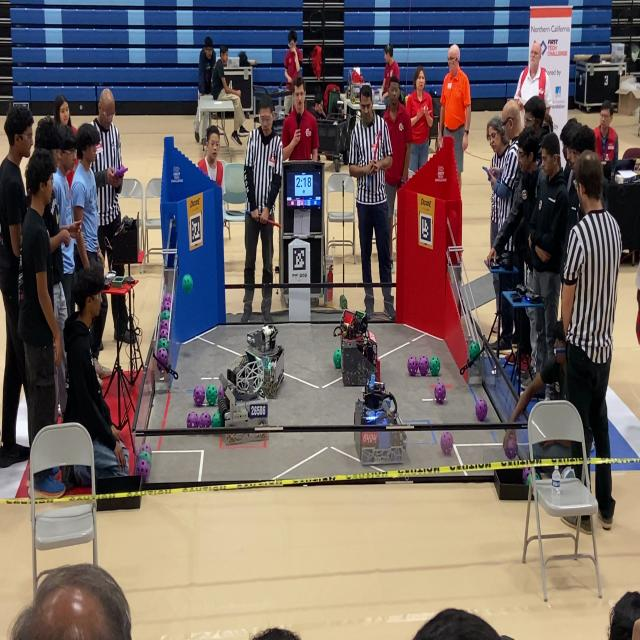artifact_green: (135, 460, 150, 482), (504, 437, 518, 459), (206, 385, 218, 406), (156, 348, 168, 367), (469, 341, 480, 361), (182, 274, 193, 293), (430, 356, 440, 376), (139, 451, 151, 466), (212, 412, 223, 428), (333, 348, 341, 369), (138, 443, 151, 453), (523, 467, 530, 485), (158, 338, 168, 349), (340, 295, 347, 309), (161, 311, 170, 321), (526, 471, 530, 486), (526, 472, 530, 485)
artifact_purple: (135, 459, 150, 482), (441, 432, 453, 455), (434, 382, 446, 404), (505, 438, 517, 459), (476, 399, 487, 421), (194, 385, 205, 406), (418, 356, 429, 375), (157, 348, 168, 366), (199, 412, 211, 428), (187, 412, 199, 428), (408, 357, 418, 376), (139, 443, 152, 453), (523, 467, 530, 484), (161, 300, 170, 310), (160, 320, 169, 330), (159, 328, 168, 338), (218, 385, 224, 397), (164, 293, 171, 301)
